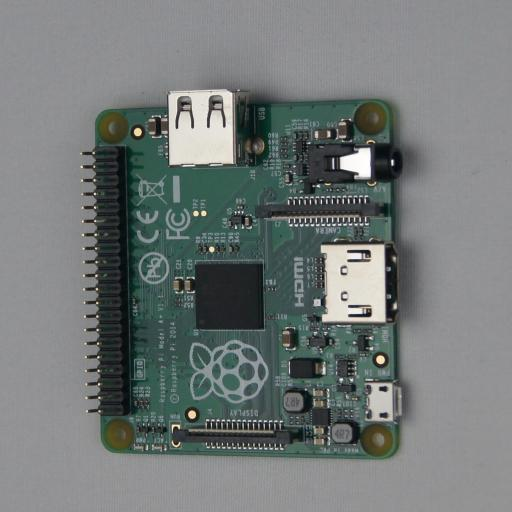Raspberry Pi A-: (82, 88, 418, 460)
